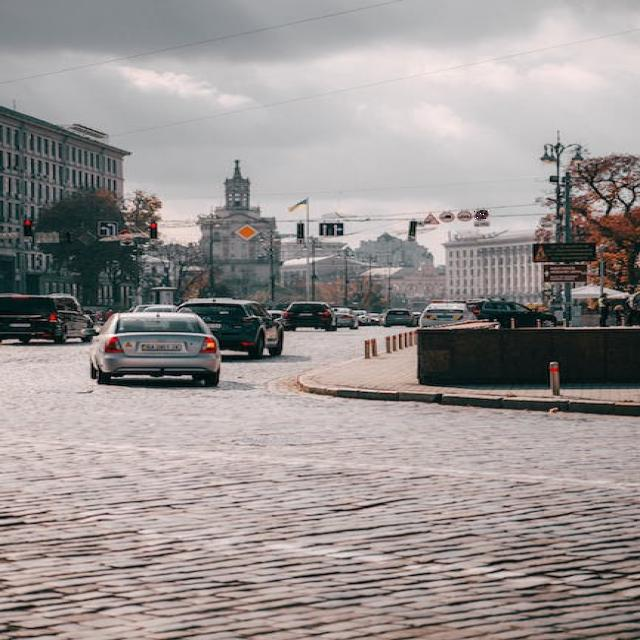no stopping: (474, 210, 489, 221)
